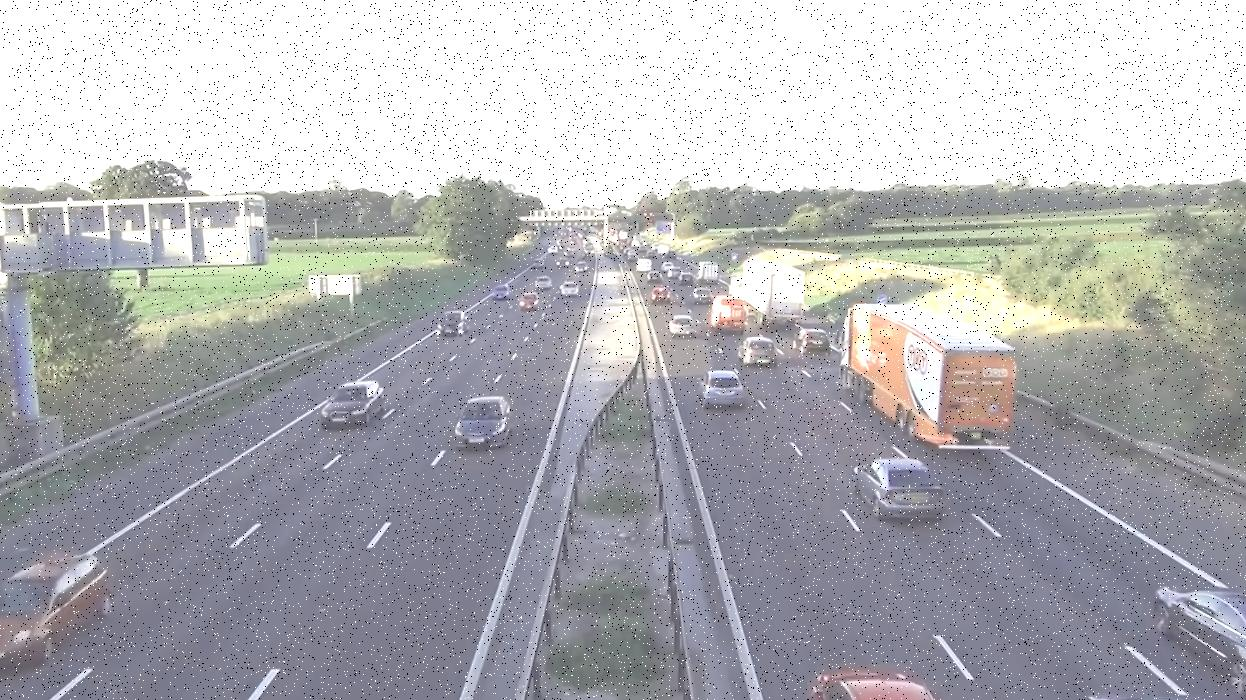bus: (455, 396, 513, 439)
car: (827, 304, 1020, 451), (0, 542, 103, 680), (1152, 578, 1246, 689), (847, 453, 946, 522), (807, 662, 946, 700), (321, 382, 391, 431), (702, 369, 743, 405), (707, 299, 748, 334), (741, 336, 780, 366), (790, 326, 829, 355), (436, 306, 470, 339), (671, 316, 702, 339), (518, 293, 538, 311), (692, 289, 715, 304), (649, 288, 670, 303), (559, 282, 581, 296), (491, 284, 511, 299), (537, 278, 555, 289)
truck: (739, 261, 805, 324)
